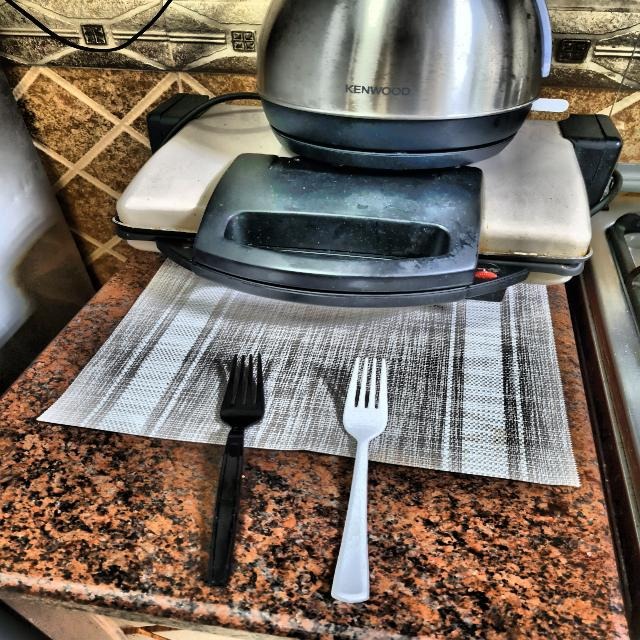plastic utensil: (206, 352, 272, 588), (329, 354, 390, 604)
